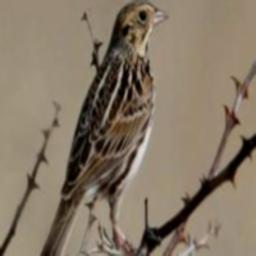Sparrow: (28, 0, 173, 256)
